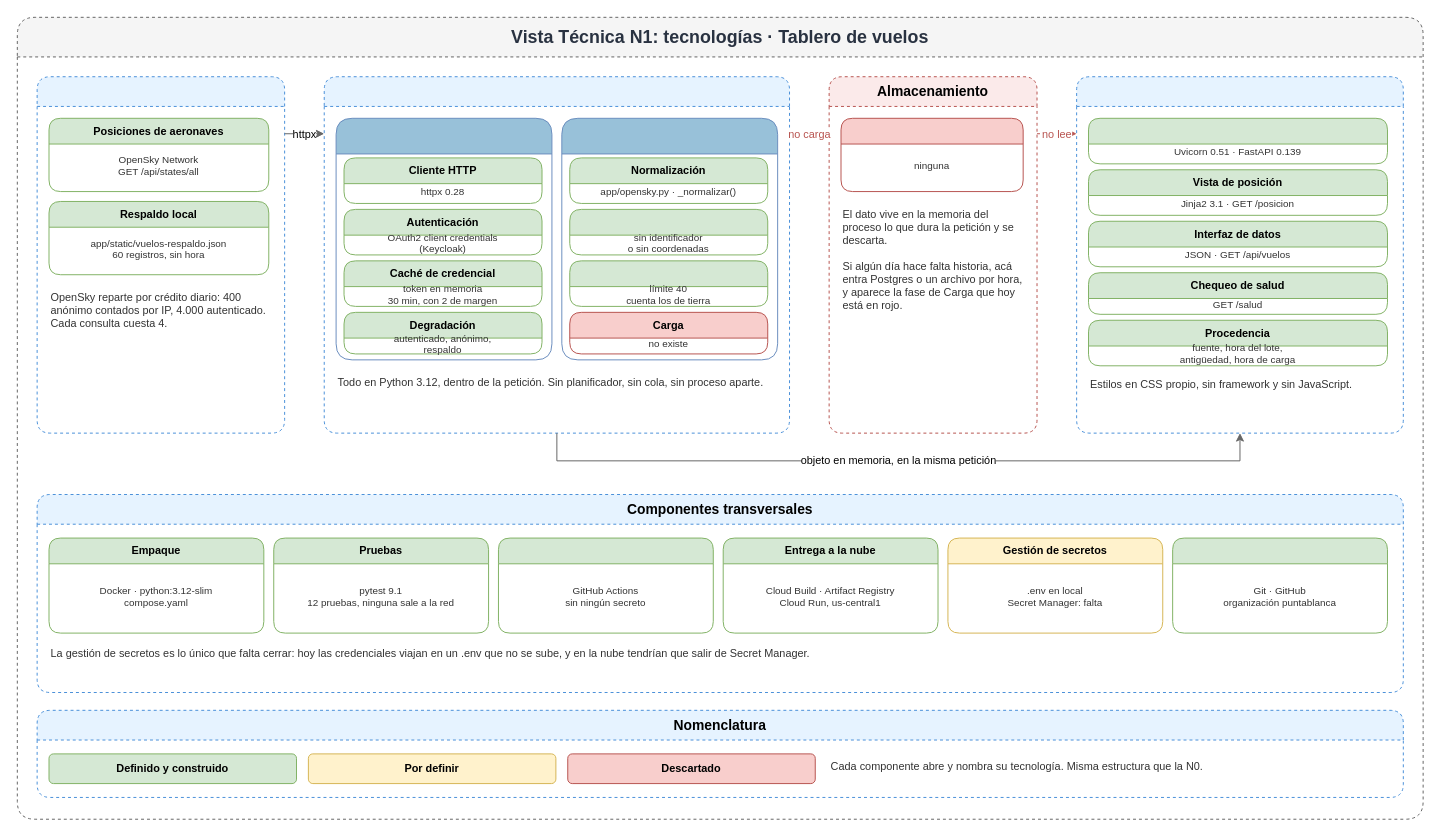
This 1440x837 diagram has some shape labels left out. Here are the shapes that lost their labels. From the top down, the box of each, then its label:
(840, 117, 1023, 192): Persistencia
(1088, 117, 1387, 164): Servidor de aplicación
(335, 117, 552, 360): Extracción
(569, 208, 768, 255): Descarte
(561, 117, 778, 360): Transformación
(36, 76, 285, 433): Fuentes de datos
(323, 76, 790, 433): Proceso ETL
(1076, 76, 1403, 433): Capa de consumo
(569, 260, 768, 306): Recorte y conteo
(497, 537, 713, 633): Integración continua
(1172, 537, 1387, 633): Control de versiones
